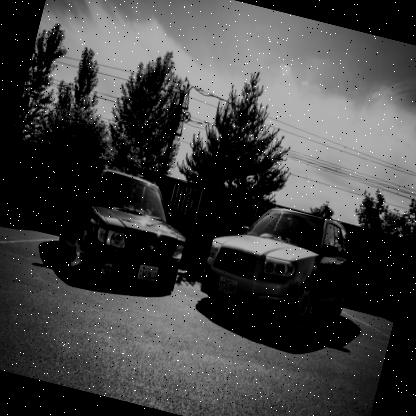Car: (196, 194, 361, 338), (53, 160, 198, 292)
